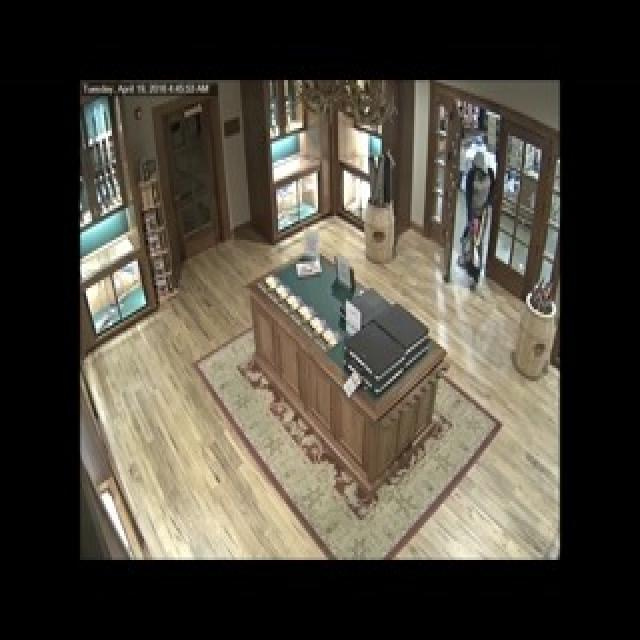thief: (455, 148, 494, 277)
